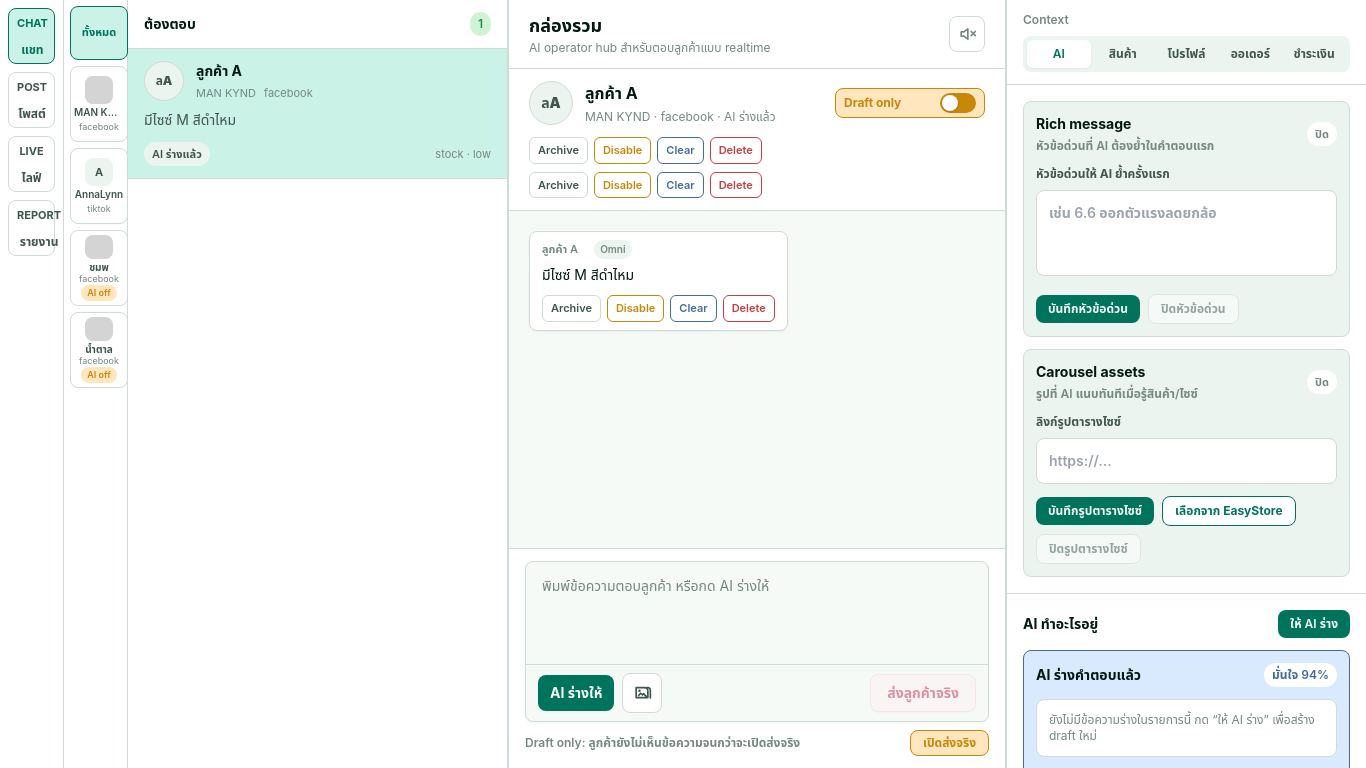
Test: OmniWorkbench › does not overwrite operator text when a new AI draft-only message arrives
The image size is (1366, 768).
Type "บอสกำลังพิมพ์เอง" into the text box with placeholder "พิมพ์ข้อความตอบลูกค้า หรือกด AI ร่างให้" at (757, 610), box [526,562,988,658]
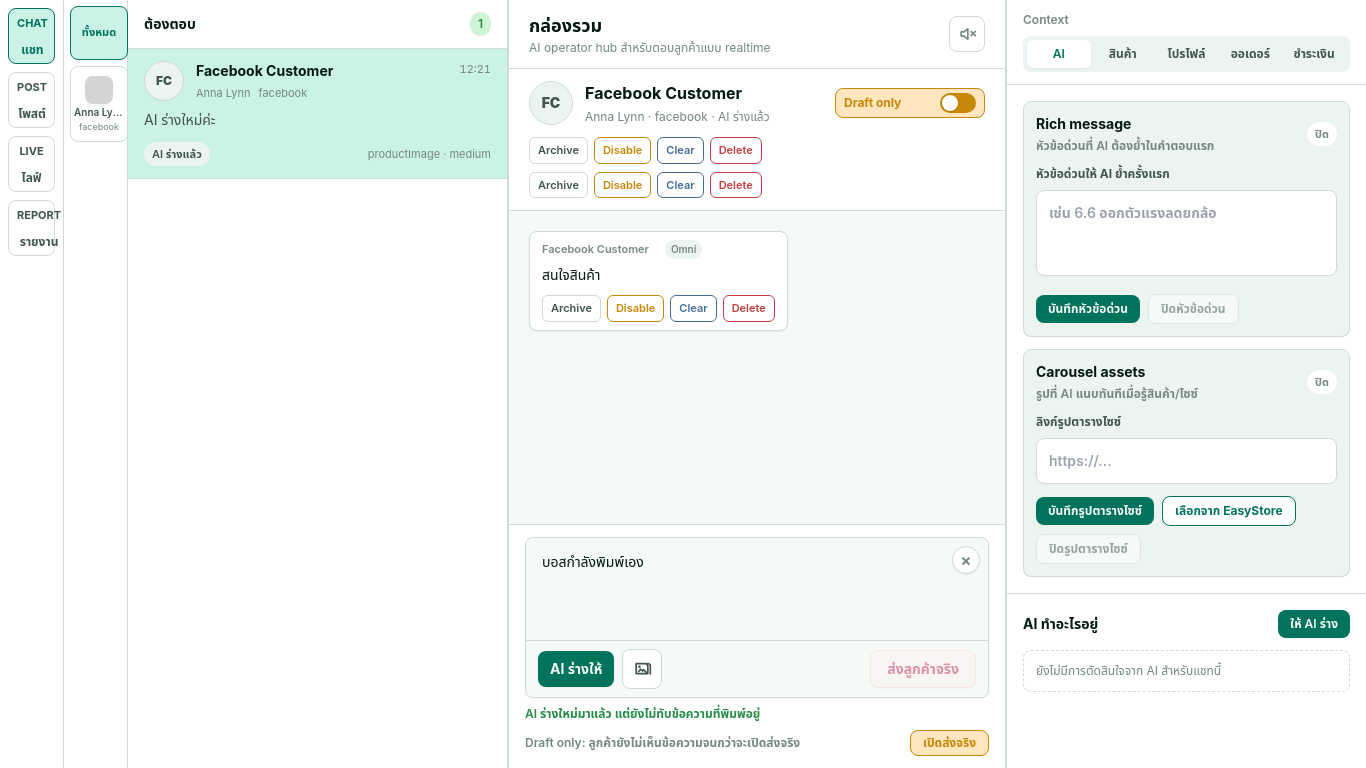
Result: the text "AI ร่างใหม่มาแล้ว แต่ยังไม่ทับข้อความที่พิมพ์อยู่" is shown at [525,706,760,721]
